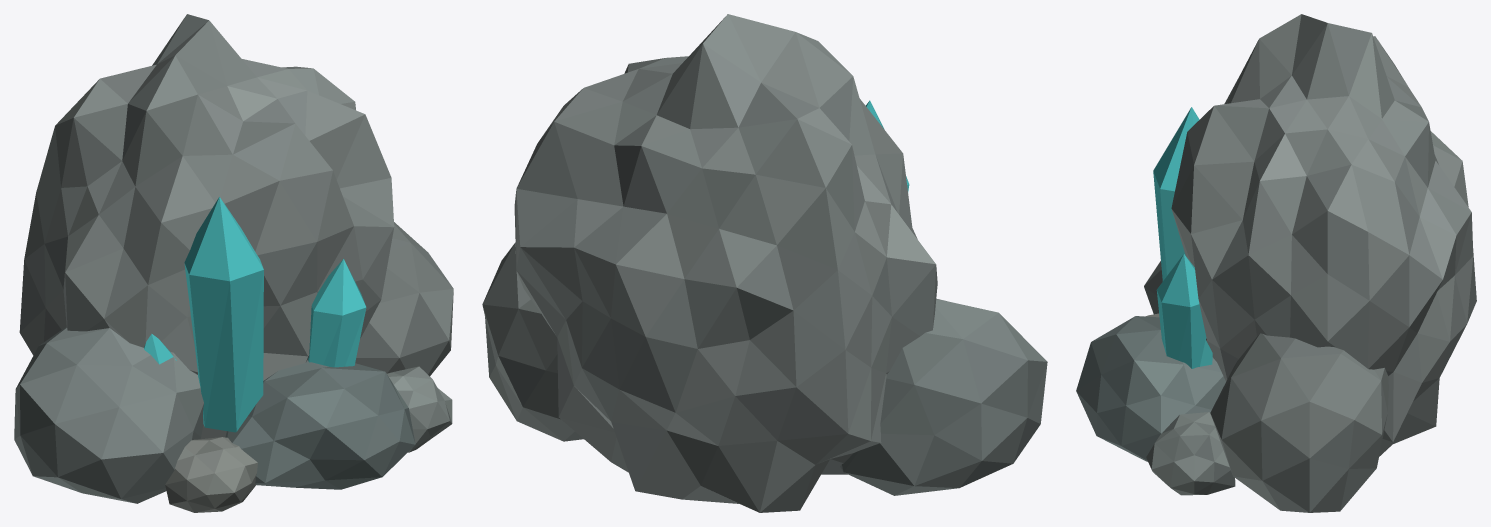
Rendered from twinsun_crystal.glb.
3 views of the same model, side by side, from view 1: azimuth 30°, elevation 25°; view 2: azimuth 150°, elevation 25°; view 3: azimuth 270°, elevation 25° (orthographic). The views are drawn at different scales.
Visible parts, largest first — view 1: Main_rock, Rock_left, Rock_front, Crystal_main, Rock_right, Pebble_left, Crystal_side, Pebble_right, Crystal_small; view 2: Main_rock, Rock_left, Rock_right; view 3: Main_rock, Rock_right, Rock_front, Pebble_right, Crystal_side, Crystal_main, Rock_left.
Part boxes in pixels (bbox=[...]): Main_rock: bbox=[19, 14, 394, 439]; Rock_left: bbox=[14, 327, 203, 503]; Rock_front: bbox=[225, 360, 415, 489]; Crystal_main: bbox=[184, 197, 263, 432]; Rock_right: bbox=[355, 222, 453, 376]; Pebble_left: bbox=[165, 437, 257, 512]; Crystal_side: bbox=[308, 259, 366, 367]; Pebble_right: bbox=[387, 366, 452, 452]; Crystal_small: bbox=[144, 334, 176, 364]; Main_rock: bbox=[514, 14, 937, 512]; Rock_left: bbox=[840, 298, 1047, 495]; Rock_right: bbox=[482, 242, 583, 441]; Main_rock: bbox=[1171, 14, 1476, 456]; Rock_right: bbox=[1210, 333, 1388, 512]; Rock_front: bbox=[1076, 316, 1225, 461]; Pebble_right: bbox=[1146, 412, 1235, 495]; Crystal_side: bbox=[1156, 254, 1212, 368]; Crystal_main: bbox=[1153, 107, 1199, 281]; Rock_left: bbox=[1144, 261, 1162, 314].
Size of the model in its own units: 2.03 by 1.72 by 1.56.
